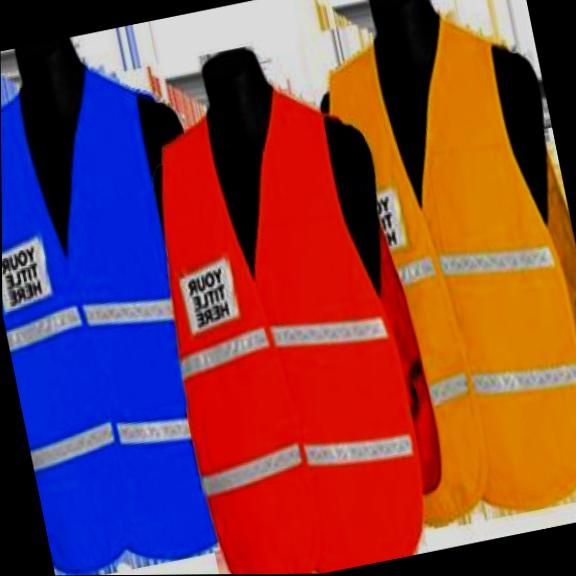safety_vest: (122, 57, 455, 575), (310, 0, 576, 536), (0, 43, 233, 576)
